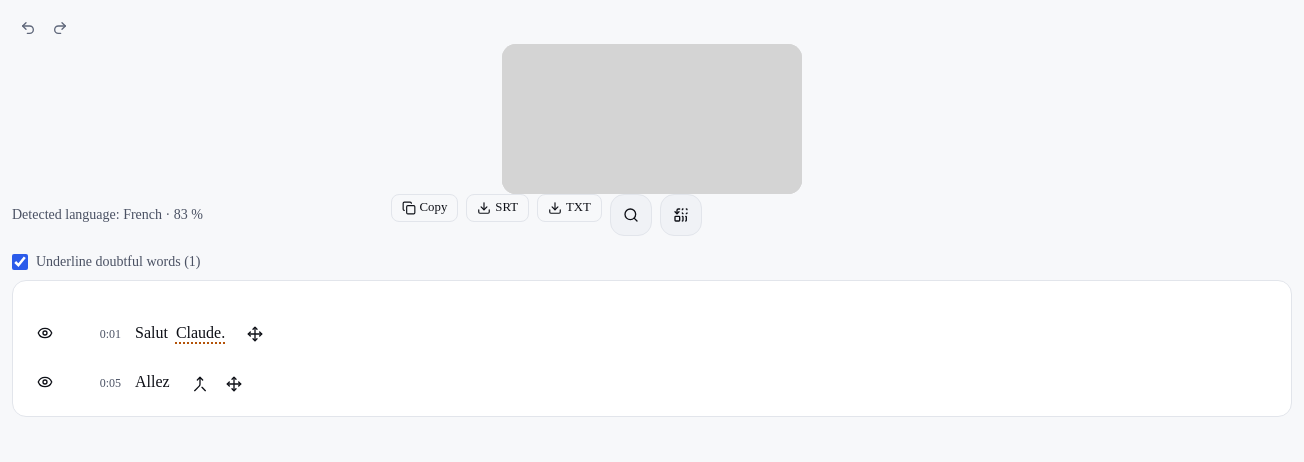
Test: TranscriptView › highlights search results and shows the count
This screenshot has width=1304, height=462.
Click the button named "Search for a word" at (631, 215), box [613,197,649,233]
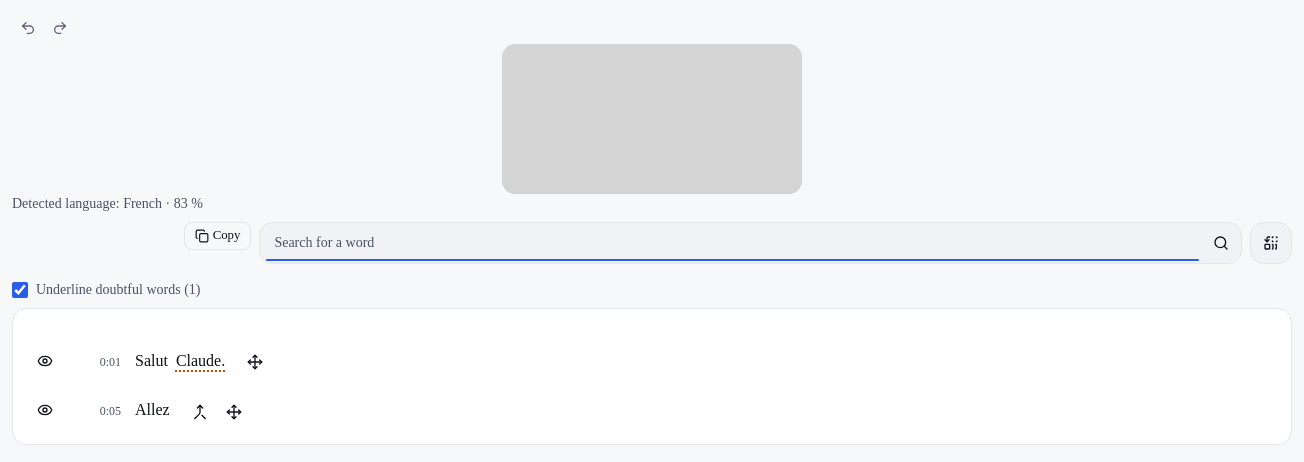
Type "all" into the search field labelled "Search for a word" at (733, 243), box [262,225,1203,261]
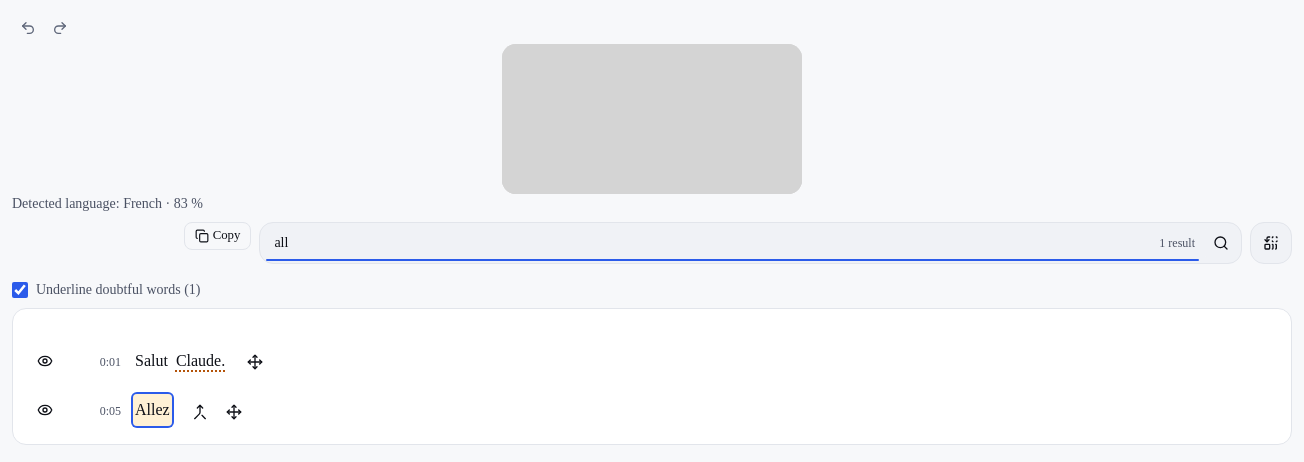
Check: the text "1 result" is shown, box [1159,235,1195,251]
